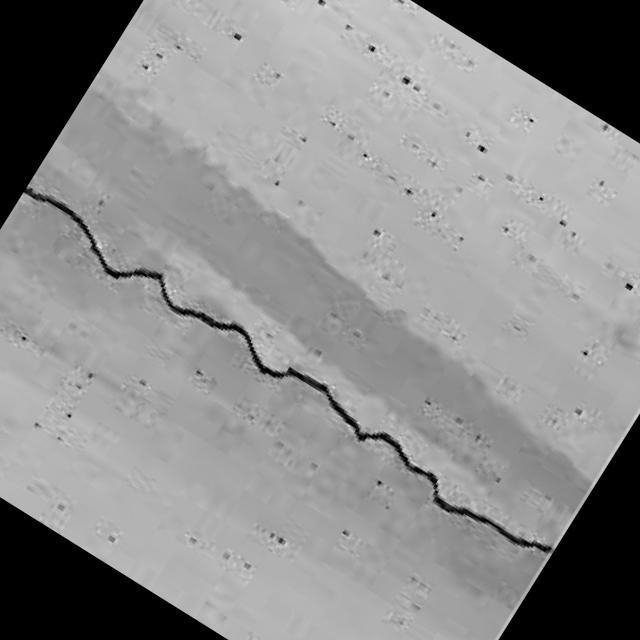defect: (23, 185, 558, 559)
